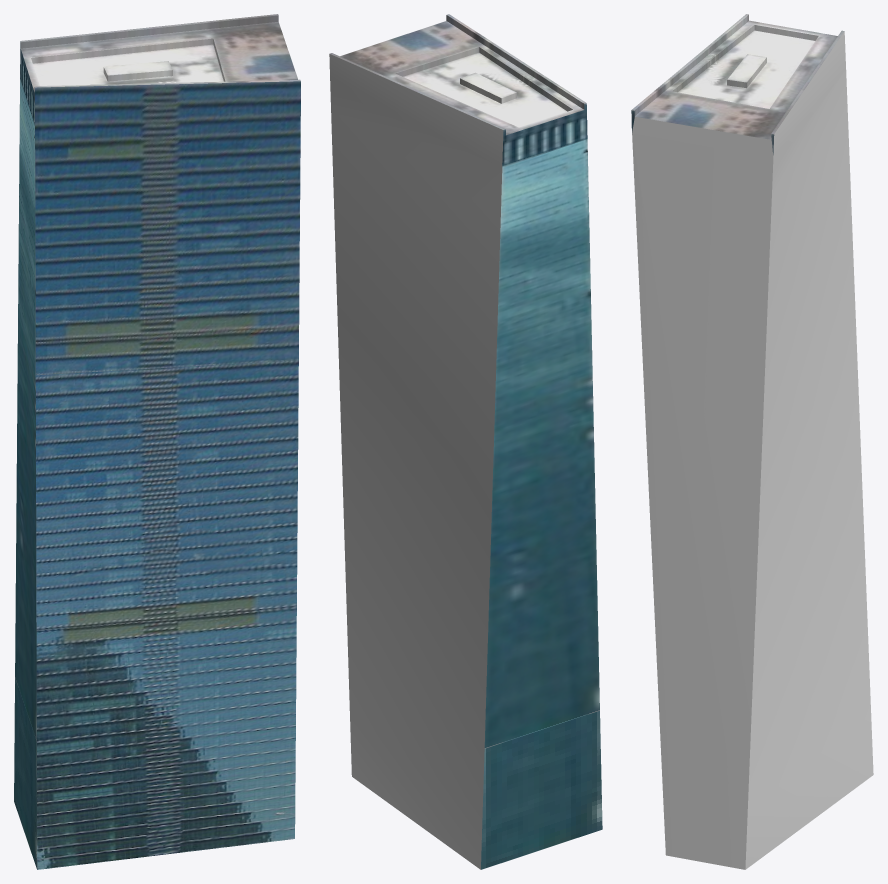
File: twisted+building1.fbx
3 renders of one model, left to right at view 1: azimuth 30°, elevation 25°; view 2: azimuth 150°, elevation 25°; view 3: azimuth 270°, elevation 25°, orthographic. The views are drawn at different scales.
Visible parts, largest first — view 1: Group1; view 2: Group1; view 3: Group1.
Boxes of the visible parts, x1,y1,x2,y2 form: Group1: (14,14,300,869); Group1: (329,14,602,869); Group1: (631,14,873,869).
Size of the model in its own units: 69.53 by 194 by 57.55.
